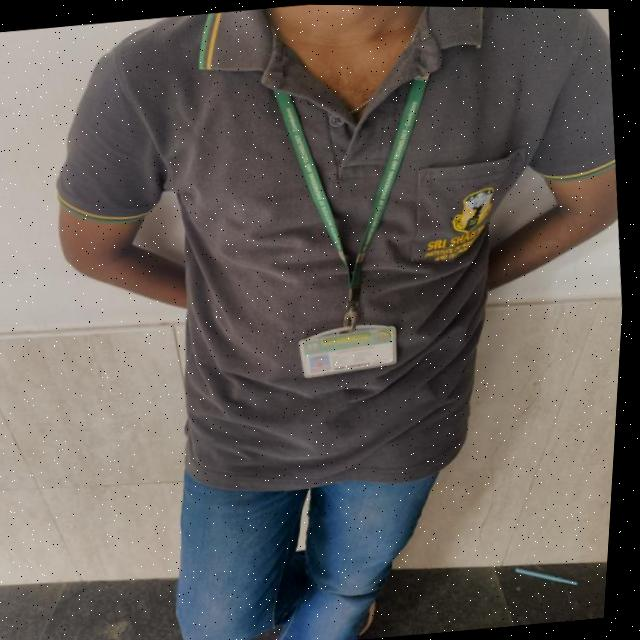id_card: (256, 52, 460, 385)
